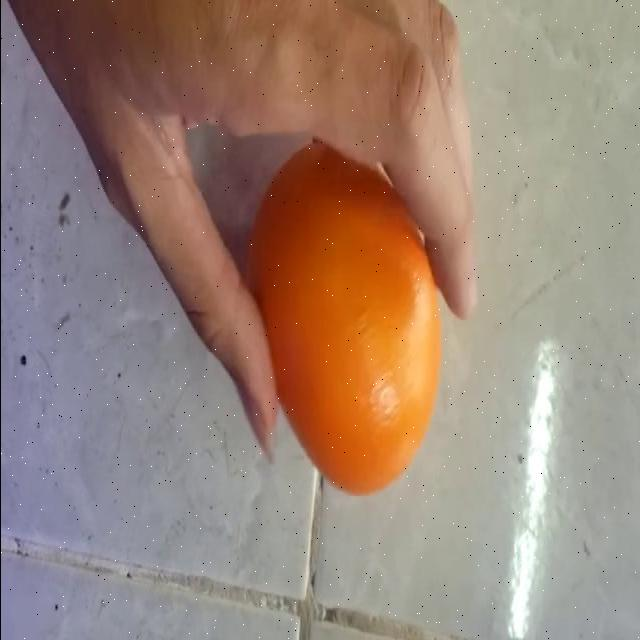Orange: (246, 139, 444, 496)
